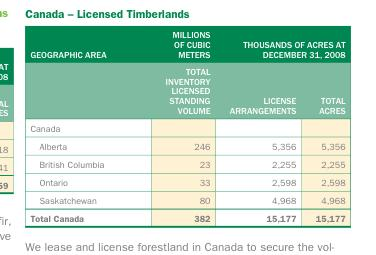table: (29, 29, 344, 223)
table column: (29, 29, 135, 223), (219, 29, 305, 223), (135, 29, 219, 223), (305, 29, 344, 223)
table column header: (29, 29, 344, 118)
table projected row header: (29, 118, 344, 136)
table row: (29, 29, 344, 77), (29, 77, 344, 118), (29, 136, 344, 155), (29, 118, 344, 136), (29, 155, 344, 173), (29, 173, 344, 191), (29, 191, 344, 209), (29, 209, 344, 223)
table spanning cell: (29, 29, 135, 118), (135, 29, 219, 118), (219, 29, 344, 77)
